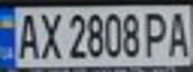0: (103, 9, 124, 60)
2: (63, 9, 87, 61)
8: (121, 9, 145, 58), (84, 9, 106, 60)
A: (12, 9, 42, 61), (163, 8, 193, 59)
P: (142, 8, 172, 59)
X: (36, 9, 63, 61)
